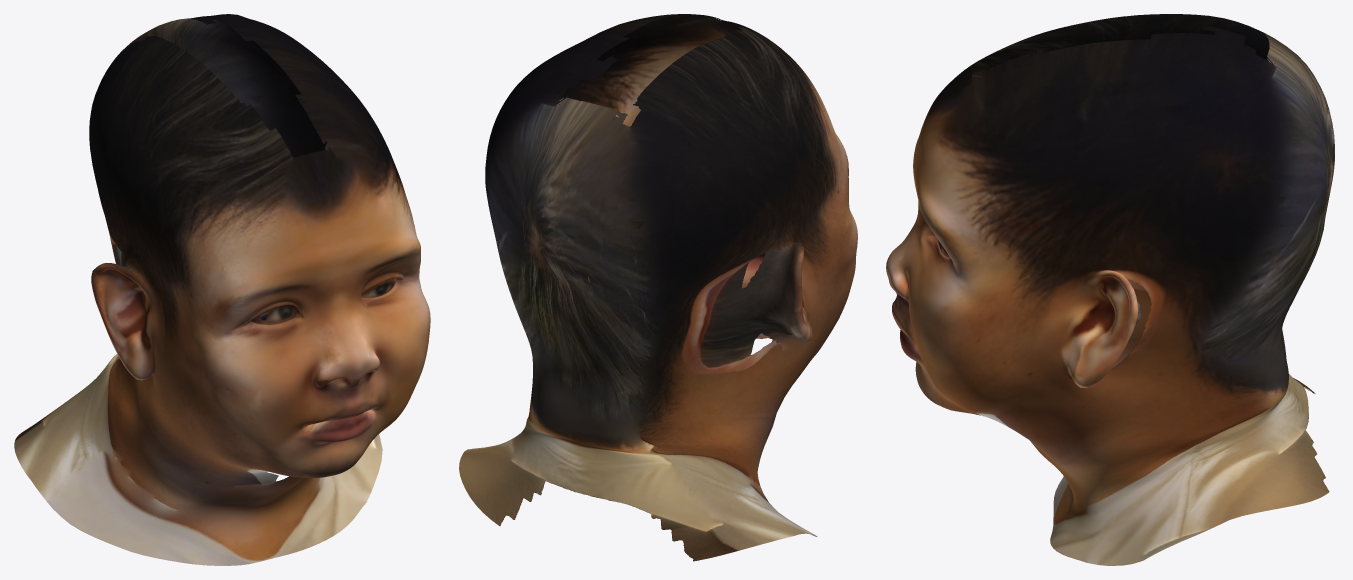
The model's file is alan.fbx.
3 views of the same model, side by side, from view 1: azimuth 30°, elevation 25°; view 2: azimuth 150°, elevation 25°; view 3: azimuth 270°, elevation 25° (orthographic). The views are drawn at different scales.
Visible parts, largest first — view 1: FBHead; view 2: FBHead; view 3: FBHead.
Part boxes in pixels (x1=…): FBHead: x1=14, y1=14, x2=430, y2=565; FBHead: x1=459, y1=14, x2=857, y2=561; FBHead: x1=886, y1=14, x2=1334, y2=565.
Size of the model in its own units: 166 by 234 by 191.
Materials: 1 (1 with a texture image).
